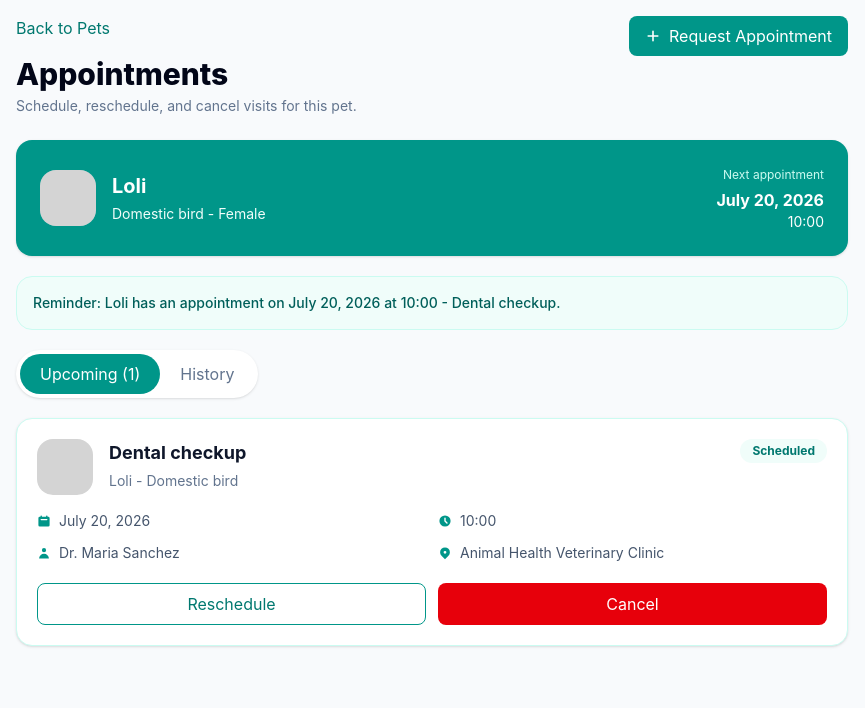
Test: AppointmentCalendar › shows veterinarian observation in completed appointment history
Click the button "History". click: (207, 374)
box: [160,354,254,394]
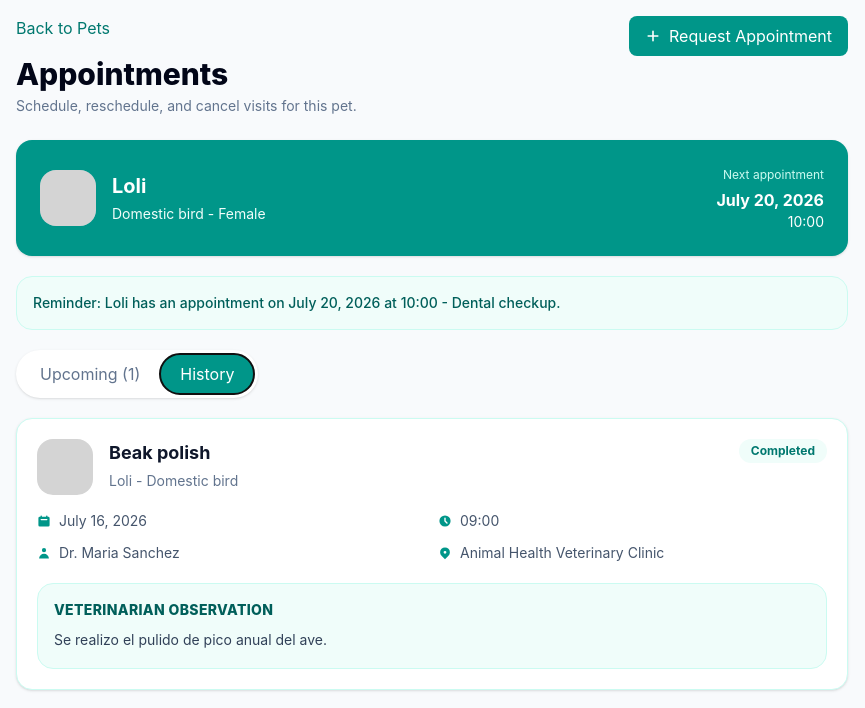
Result: the heading "Beak polish" is shown at [109,442,210,463]
Result: the heading "Veterinarian observation" is shown at [54,601,273,618]
Result: the text "Se realizo el pulido de pico anual del ave." is shown at [54,631,327,648]
